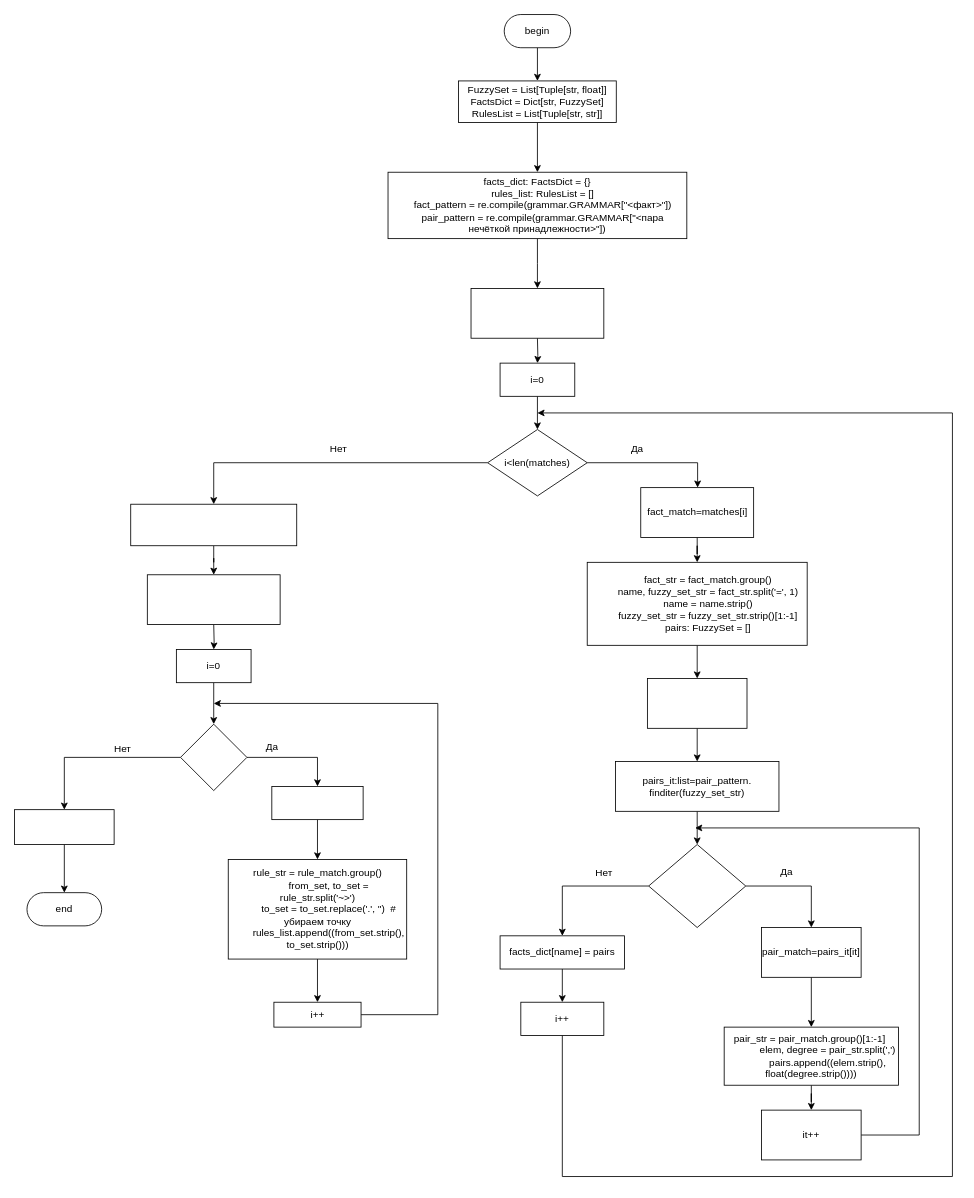
The diagram is 974 pixels wide and 1198 high, and some of its shapes have lost their labels. The shapes that lost their labels are listed below. From the top down, each one's centre as x and y in pixels, then its label:
point (537, 313): matches:list= fact_pattern.finditer(kb_text)
point (213, 524): rule_pattern = re.compile(grammar.GRAMMAR["<правило>"])
point (213, 599): rules:list= fact_pattern.finditer(kb_text)
point (697, 703): it=0
point (213, 757): i<len(rules)
point (317, 803): rule_match=rules[i]
point (64, 827): return facts_dict, rules_list
point (697, 886): it<len(pairs_it)
